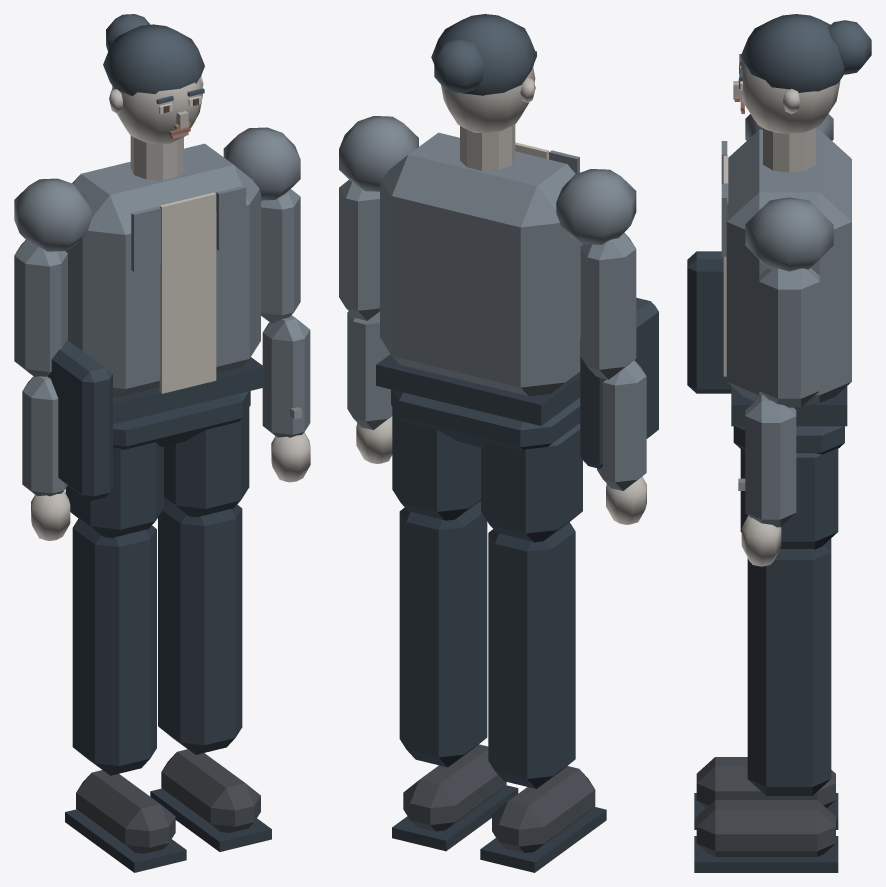
Rendered from personaje_nadia.glb.
3 renders of one model, left to right at view 1: azimuth 30°, elevation 25°; view 2: azimuth 150°, elevation 25°; view 3: azimuth 270°, elevation 25°, orthographic. The views are drawn at different scales.
Size of the model in its own units: 0.72 by 1.95 by 0.3971.
